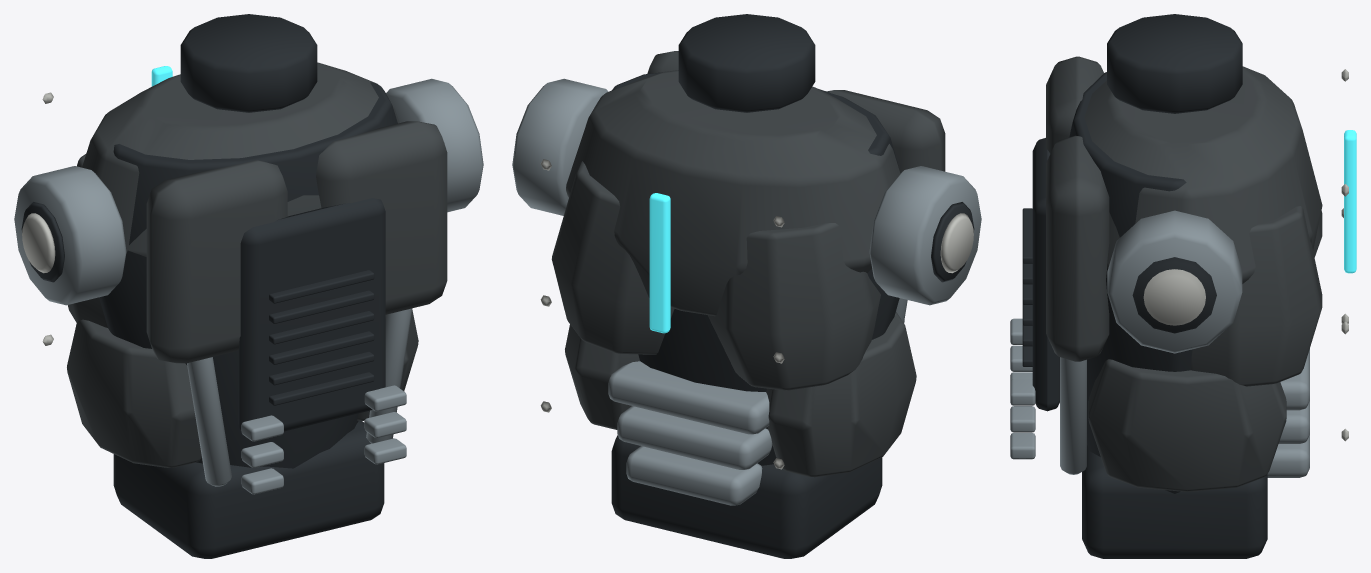
The model's file is torsos_11.glb.
3 renders of one model, left to right at view 1: azimuth 30°, elevation 25°; view 2: azimuth 150°, elevation 25°; view 3: azimuth 270°, elevation 25°, orthographic.
Visible parts, largest first — view 1: torsos_11_Geometry; view 2: torsos_11_Geometry; view 3: torsos_11_Geometry.
Part boxes in pixels (x1,y1,x2,y2): torsos_11_Geometry: (14,14,483,558); torsos_11_Geometry: (512,14,981,558); torsos_11_Geometry: (1010,14,1356,558).
Bounding box in the file's own units: 0.592 × 0.625 × 0.4105.
